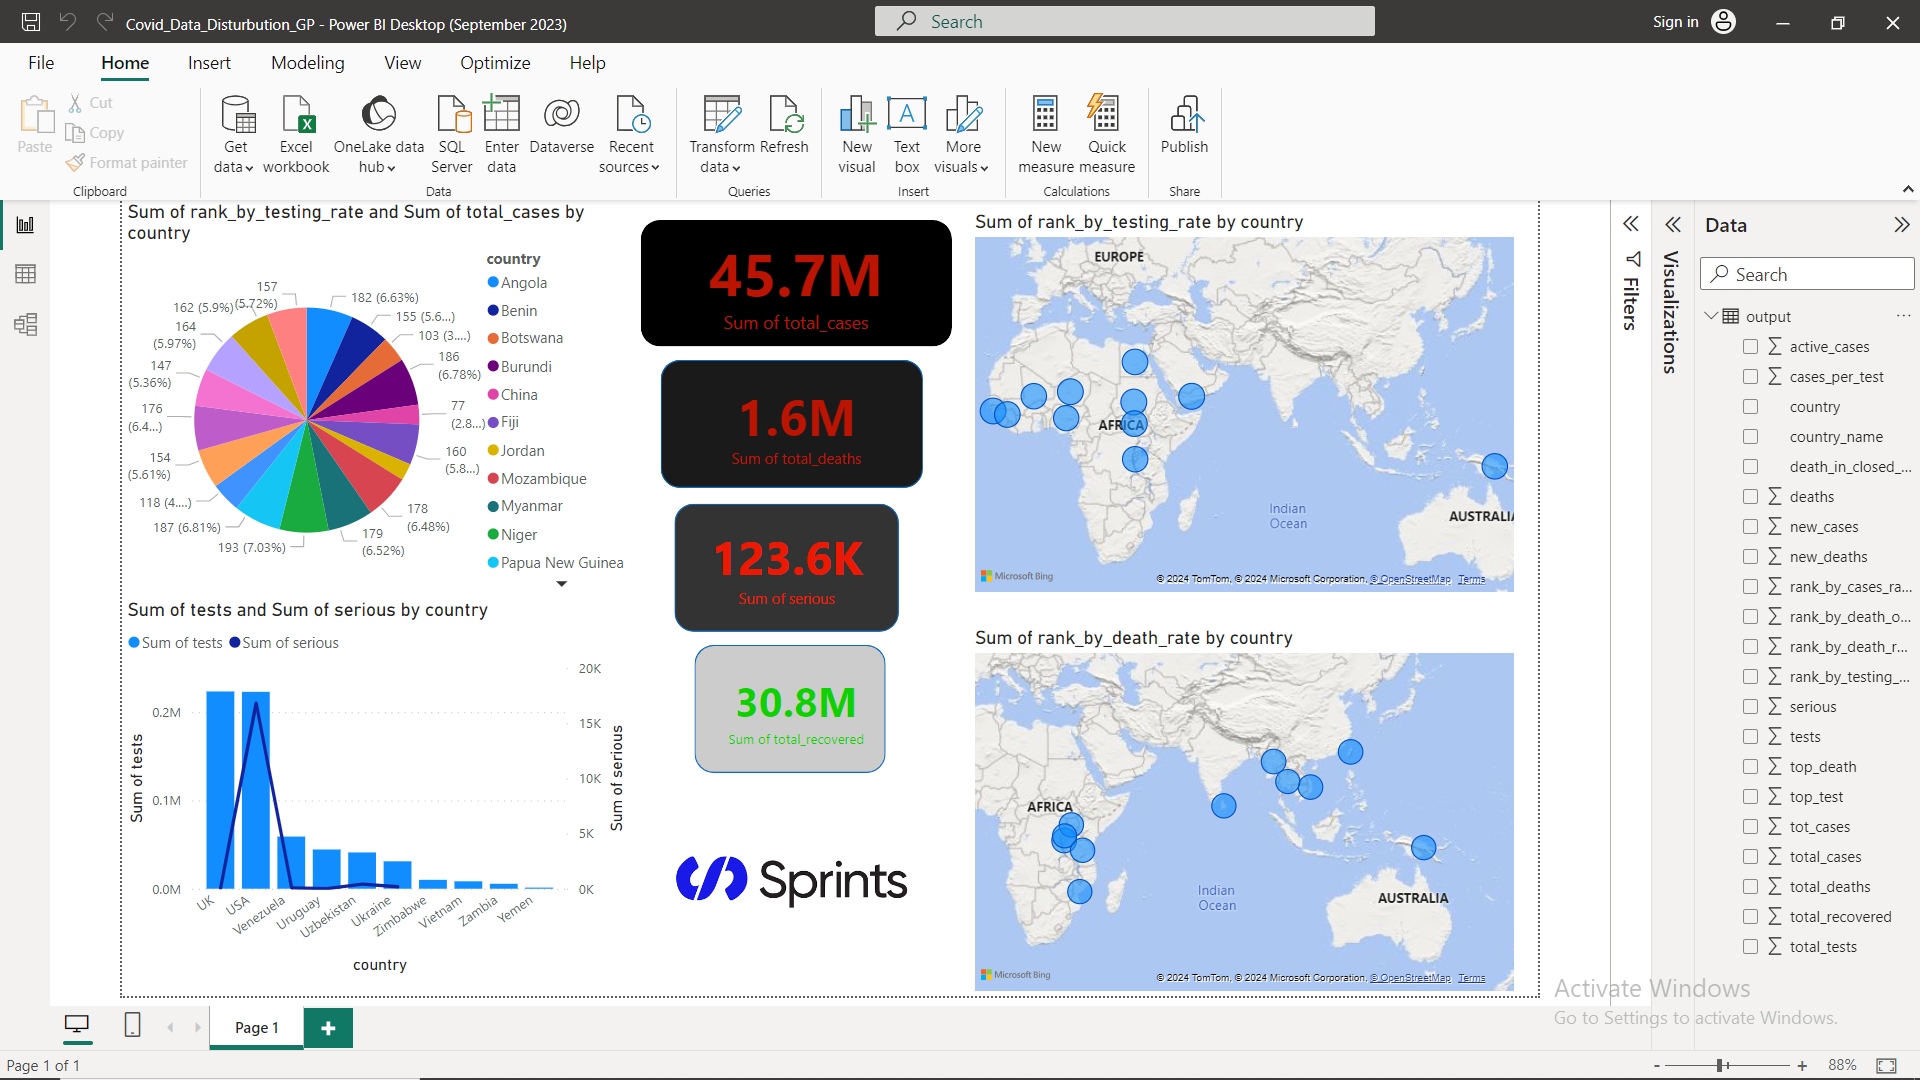

Layout of this report page (visuals, bound fields, positions):
{"tool":"powerbi","page":{"name":"Page 1","canvas":[1280,720],"ordinal":0},"visuals":[{"type":"pieChart","fields":{"Series":["output.country"],"Y":["Sum(output.rank_by_testing_rate)"]},"box":[0,0,468.6,360],"z":0},{"type":"shape","box":[468.6,18.6,281.4,114.3],"z":1000},{"type":"shape","box":[487.1,144.3,237.1,115.7],"z":2000},{"type":"shape","box":[500,274.3,202.9,115.7],"z":3000},{"type":"card","fields":{"Values":["Sum(output.total_cases)"]},"box":[367.1,25.7,484.3,98.6],"z":4000},{"type":"card","fields":{"Values":["Sum(output.serious)"]},"box":[380,282.9,442.9,97.1],"z":5000},{"type":"card","fields":{"Values":["Sum(output.total_deaths)"]},"box":[368.6,154.3,482.9,97.1],"z":6000},{"type":"shape","box":[517.1,402.9,172.9,115.7],"z":7000},{"type":"card","fields":{"Values":["Sum(output.total_recovered)"]},"box":[374.3,412.9,471.4,97.1],"z":8000},{"type":"map","fields":{"Size":["Sum(output.rank_by_death_rate)"],"Category":["output.country"]},"box":[766.7,385.2,496.7,334.8],"z":8001},{"type":"map","fields":{"Size":["Sum(output.rank_by_testing_rate)"],"Category":["output.country"]},"box":[766.7,9.6,496.7,350.4],"z":8002},{"type":"image","box":[486.9,553.1,237,127.8],"z":8003},{"type":"lineStackedColumnComboChart","fields":{"Category":["output.country"],"Y2":["Sum(output.serious)"],"Y":["Sum(output.tests)"]},"box":[0,360.2,460.1,343.9],"z":8004}]}

Visuals, with their boxes on the page's 1280x720 design canvas (x1, y1, x2, y2). These are canvas units, not pixel positions in the 1920x1080 screenshot, which may show the page scaled, cropped or inside an application window:
pieChart - output.country x Sum(output.rank_by_testing_rate): x1=0, y1=0, x2=469, y2=360
shape: x1=469, y1=19, x2=750, y2=133
shape: x1=487, y1=144, x2=724, y2=260
shape: x1=500, y1=274, x2=703, y2=390
card - Sum(output.total_cases): x1=367, y1=26, x2=851, y2=124
card - Sum(output.serious): x1=380, y1=283, x2=823, y2=380
card - Sum(output.total_deaths): x1=369, y1=154, x2=852, y2=251
shape: x1=517, y1=403, x2=690, y2=519
card - Sum(output.total_recovered): x1=374, y1=413, x2=846, y2=510
map - Sum(output.rank_by_death_rate) x output.country: x1=767, y1=385, x2=1263, y2=720
map - Sum(output.rank_by_testing_rate) x output.country: x1=767, y1=10, x2=1263, y2=360
image: x1=487, y1=553, x2=724, y2=681
lineStackedColumnComboChart - output.country x Sum(output.serious): x1=0, y1=360, x2=460, y2=704
